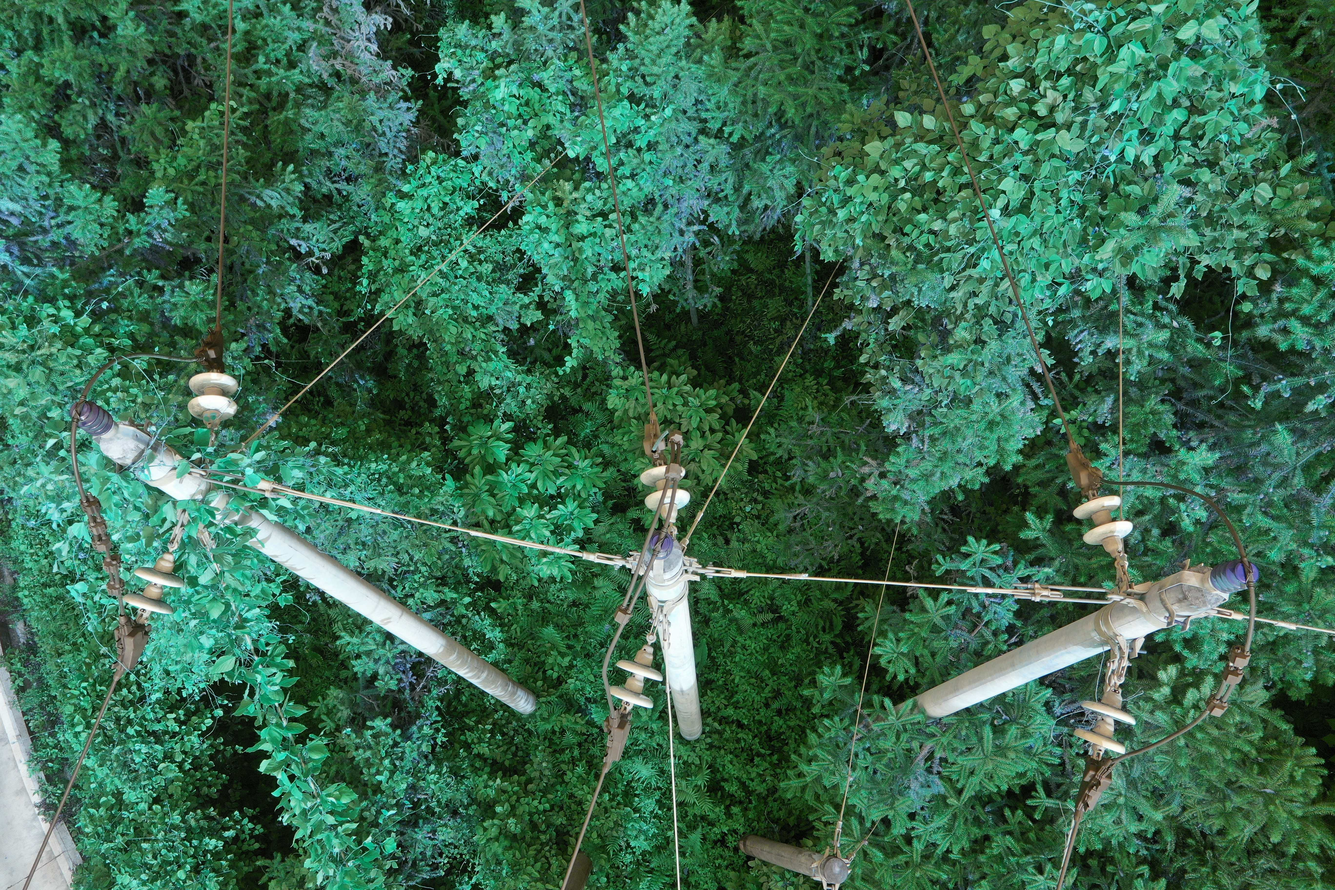severe_soiling_no_discharge_whole: (121, 547, 188, 615), (1071, 492, 1133, 557), (636, 461, 694, 526), (184, 372, 239, 430), (66, 396, 122, 441), (1202, 558, 1263, 599)
